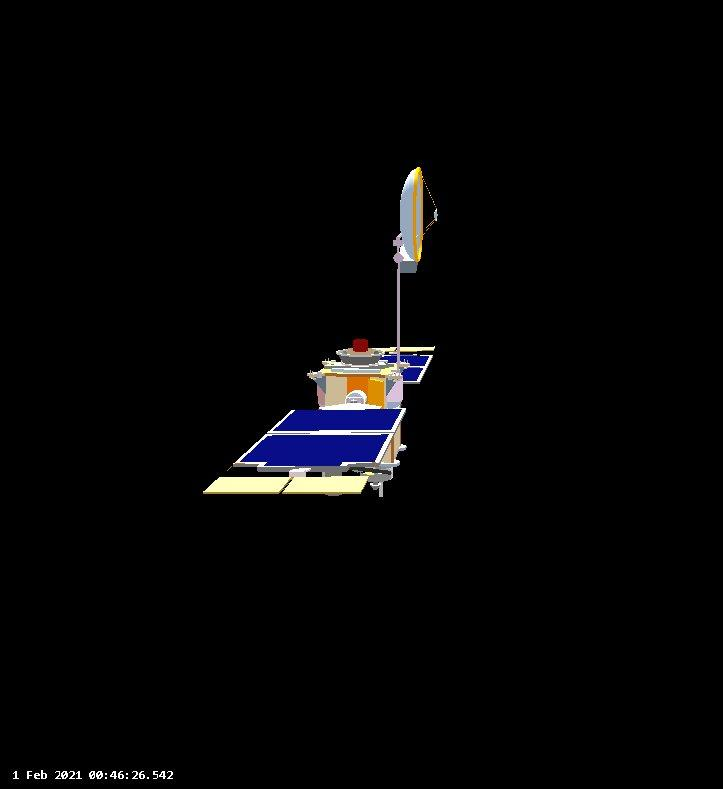antenna: (394, 163, 445, 264)
body: (304, 355, 408, 446)
solar: (197, 402, 410, 501), (334, 339, 442, 384)
thruster: (332, 333, 383, 368)
